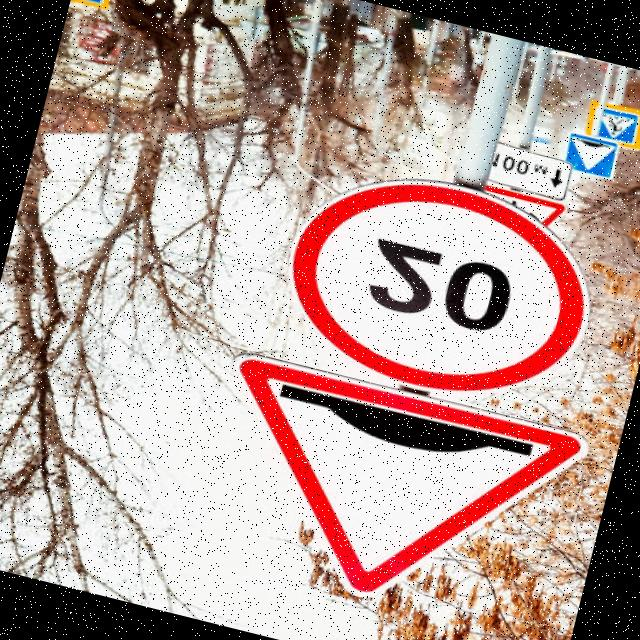speed_limit_20: (266, 141, 623, 426)
